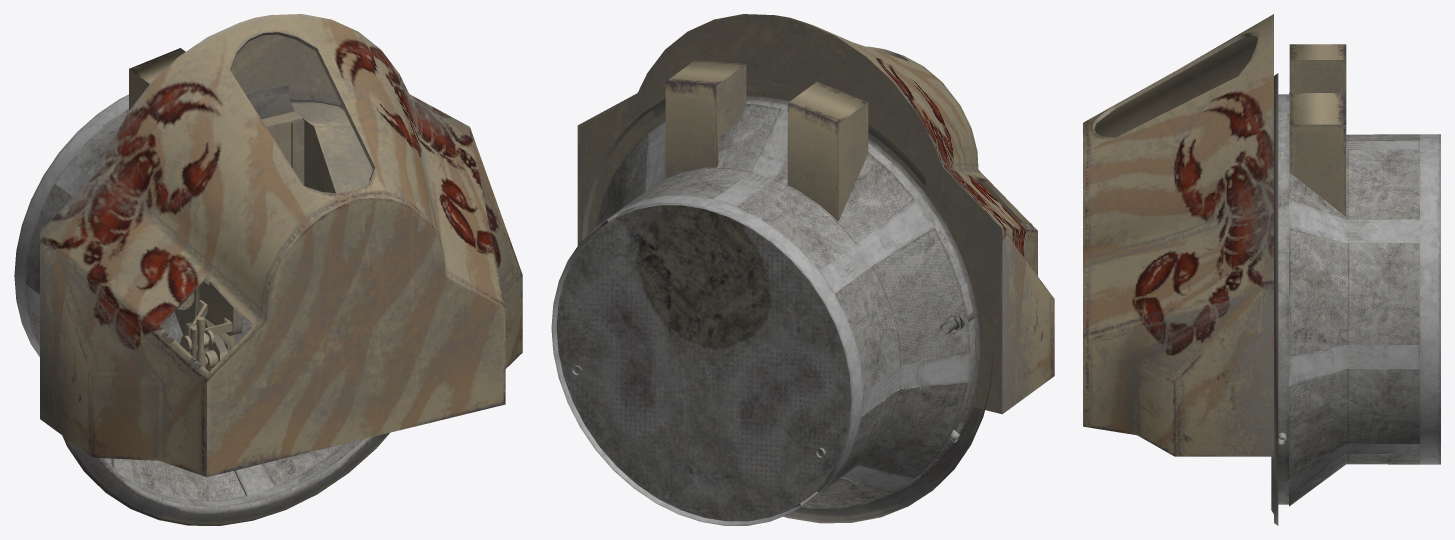
Rendered from Turret_01.glb.
3 renders of one model, left to right at view 1: azimuth 30°, elevation 25°; view 2: azimuth 150°, elevation 25°; view 3: azimuth 270°, elevation 25°, orthographic. The views are drawn at different scales.
Visible parts, largest first — view 1: set_0_group_0; view 2: set_0_group_0; view 3: set_0_group_0.
Boxes of the visible parts, <box> form: set_0_group_0: <box>14,14,522,525</box>; set_0_group_0: <box>551,14,1054,525</box>; set_0_group_0: <box>1083,14,1440,525</box>.
Size of the model in its own units: 2.44 by 2.74 by 1.87.
1 material, 1 textured.
